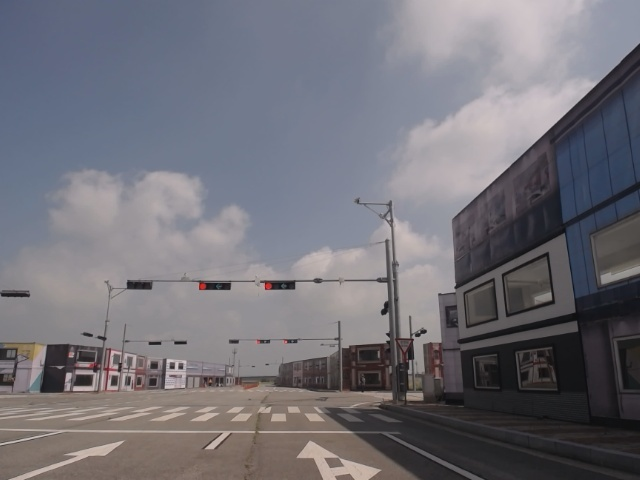left_green_4: (198, 282, 232, 291), (265, 282, 295, 290)
